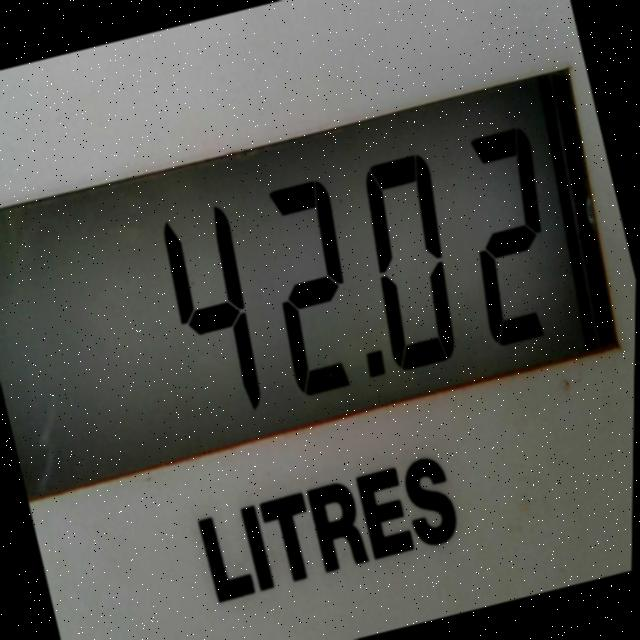.: (353, 334, 399, 400)
0: (342, 148, 484, 382)
2: (450, 126, 578, 360), (251, 177, 373, 396)
4: (157, 198, 281, 428)
